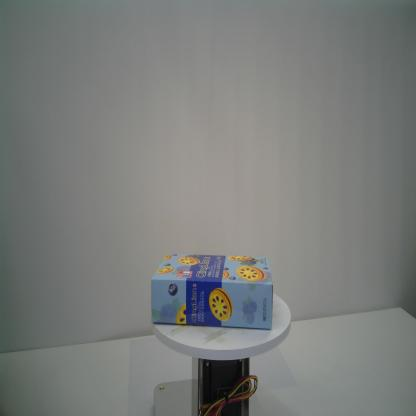Dessert: (150, 252, 274, 331)
